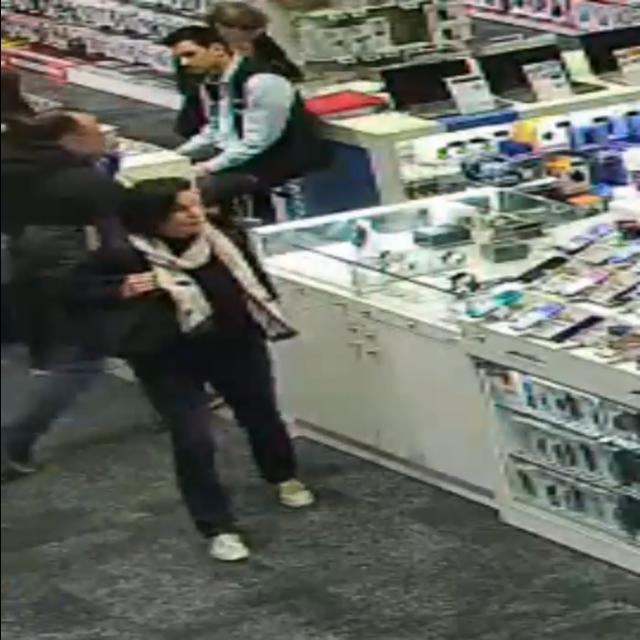bags: (59, 287, 179, 356)
hands: (120, 271, 158, 299), (193, 163, 211, 178)
person: (78, 179, 313, 561), (0, 111, 125, 478), (165, 26, 329, 221), (206, 2, 303, 82)
